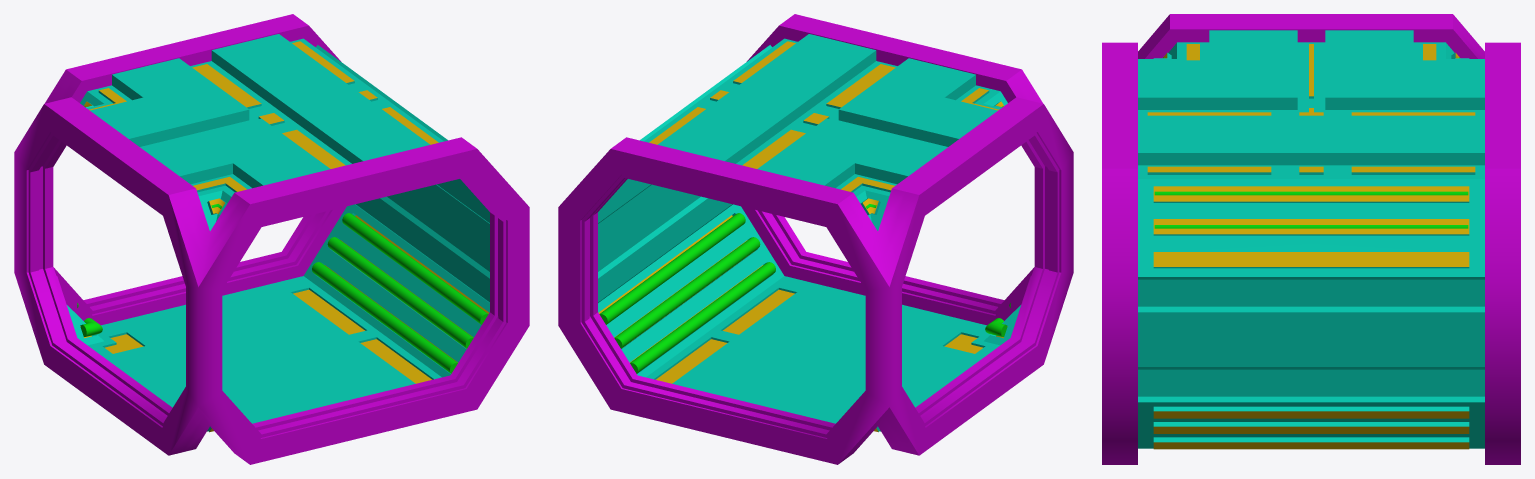
Rendered from sf2_sam.fbx.
The picture shows the model from 3 angles, left to right: view 1: azimuth 30°, elevation 25°; view 2: azimuth 150°, elevation 25°; view 3: azimuth 270°, elevation 25°; orthographic projection. The views are drawn at different scales.
Visible parts, largest first — view 1: Shape004; view 2: Shape004; view 3: Shape004.
Part boxes in pixels (left/top/right/bottom): Shape004: left=14, top=14, right=529, bottom=464; Shape004: left=558, top=14, right=1073, bottom=464; Shape004: left=1102, top=14, right=1520, bottom=464.
Size of the model in its own units: 74.48 by 56 by 71.74.
